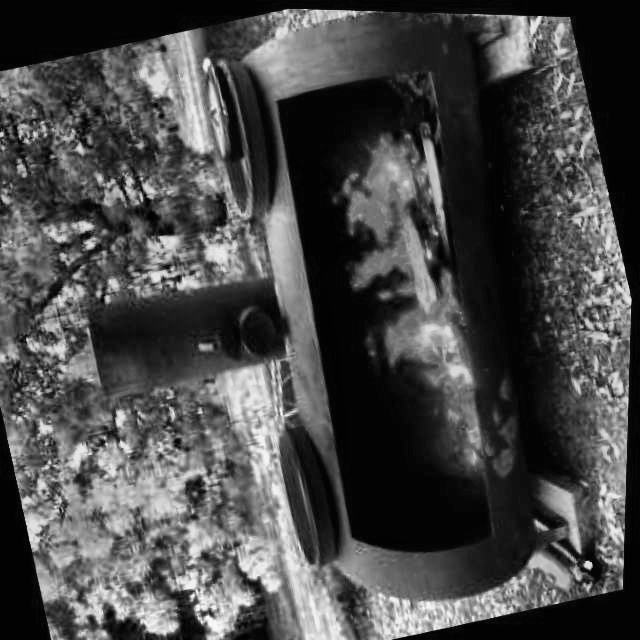Fire: (309, 91, 509, 449)
